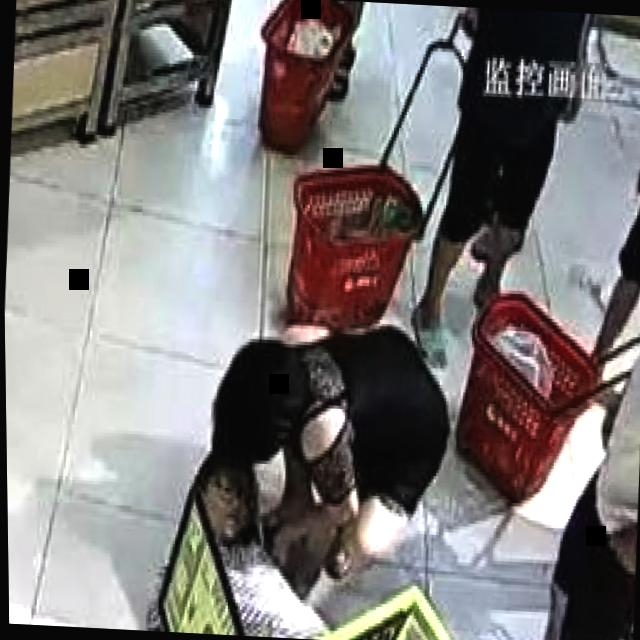Fall-Detected: (136, 425, 485, 640)
